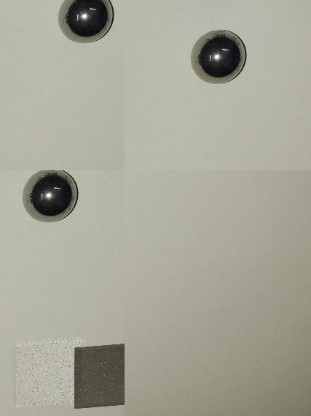ironball: (182, 22, 244, 89), (20, 168, 78, 231), (57, 0, 121, 46)
